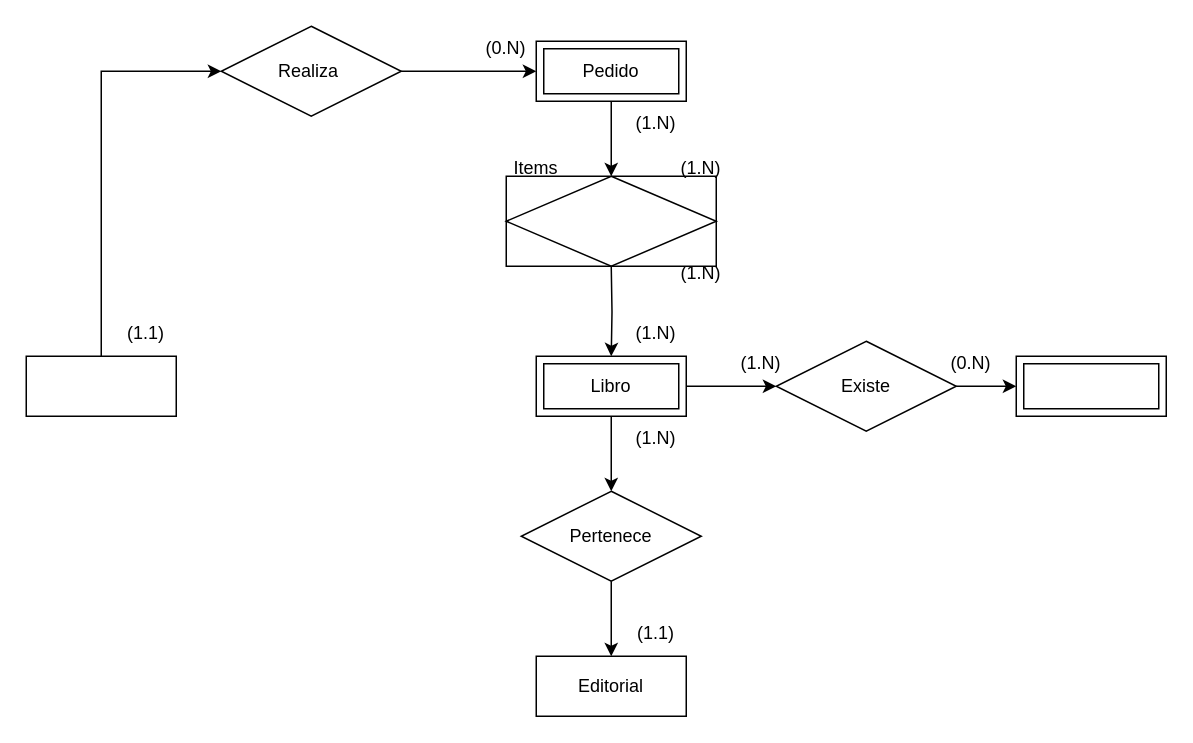
The diagram is 1193 pixels wide and 743 high, and some of its shapes have lost their labels. The centre of each missing label's shape, as x and y in pixels:
"Cliente" belongs at point 100,385.
"Contiene" belongs at point 610,220.
"Inventario" belongs at point 1090,385.
